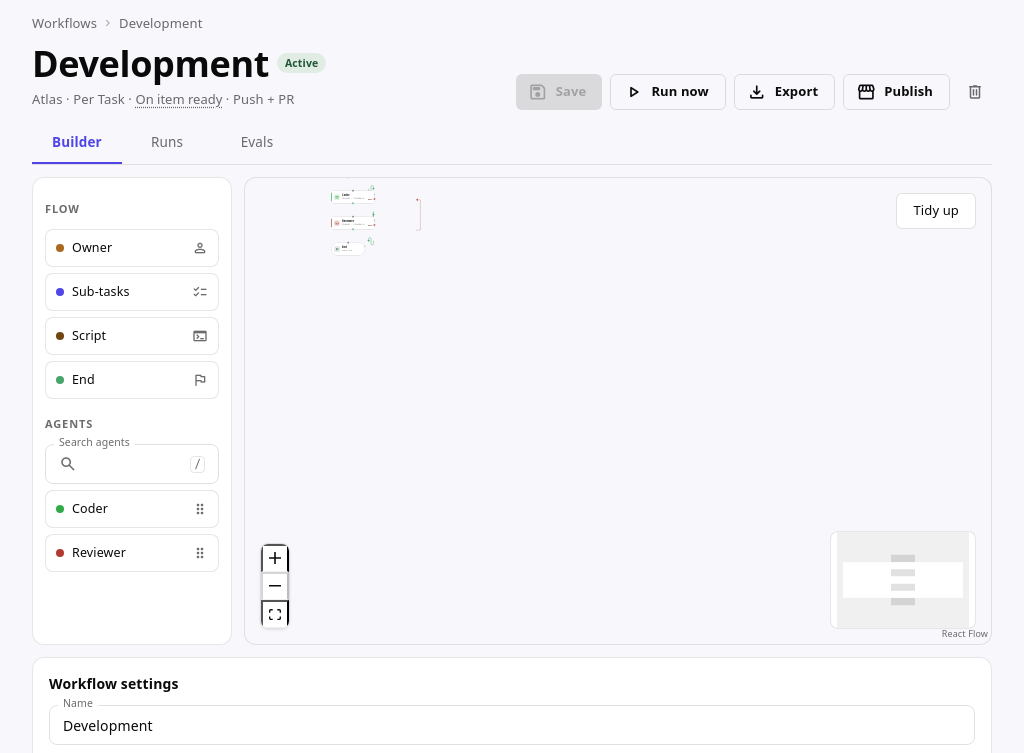
it: WorkflowBuilder › saves the whole workflow, graph included, with PATCH
expect the button "Save" is disabled: met, box [516,74,602,110]
Clear the field labelled "Name" at (512, 725), box [49,705,975,745]
(page scrolled)
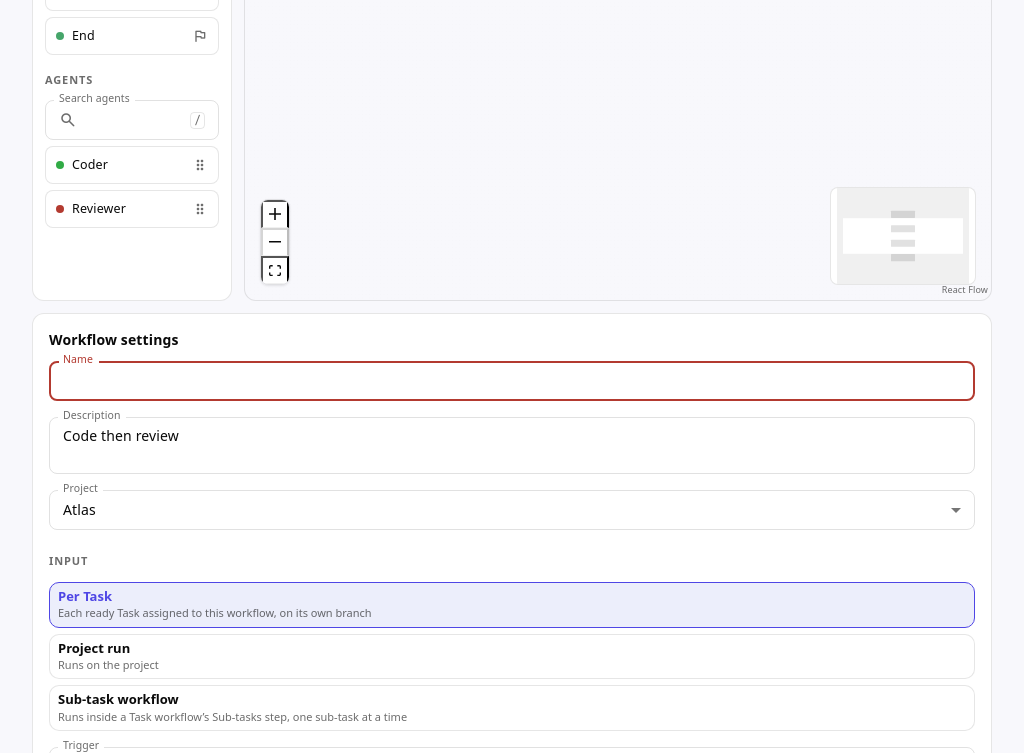
Type "Dev flow" into the field labelled "Name" at (512, 381), box [49,361,975,401]
(page scrolled)
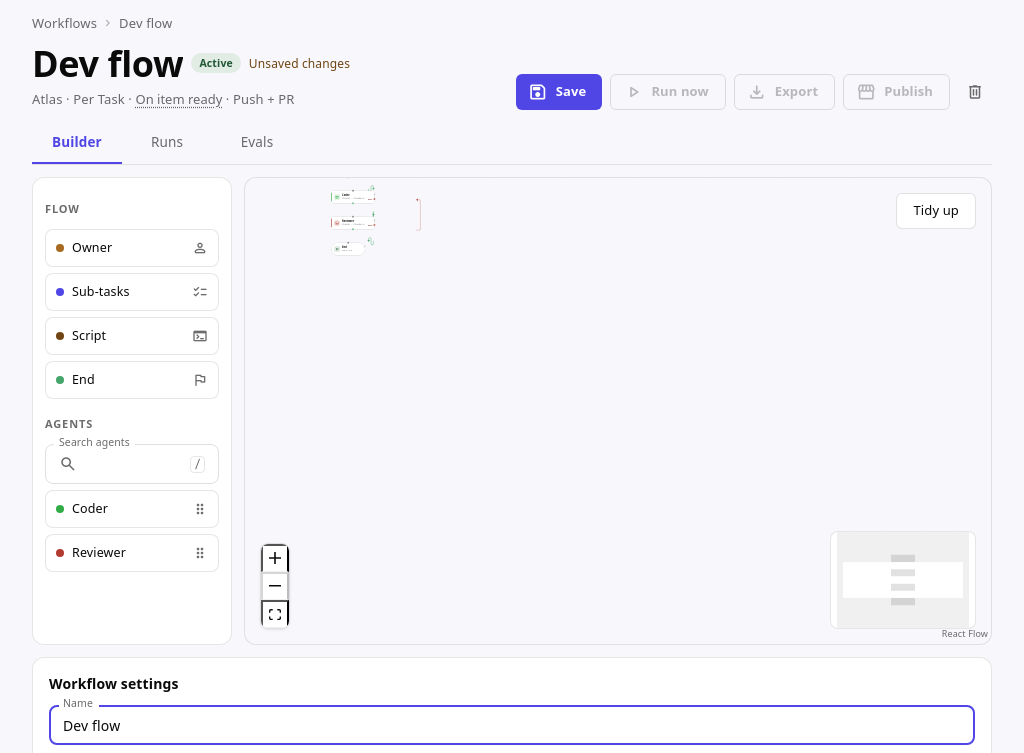
expect the text "Unsaved changes" is shown: met, box [249,54,350,73]
Click the button "Save" at (559, 92), box [516,74,602,110]
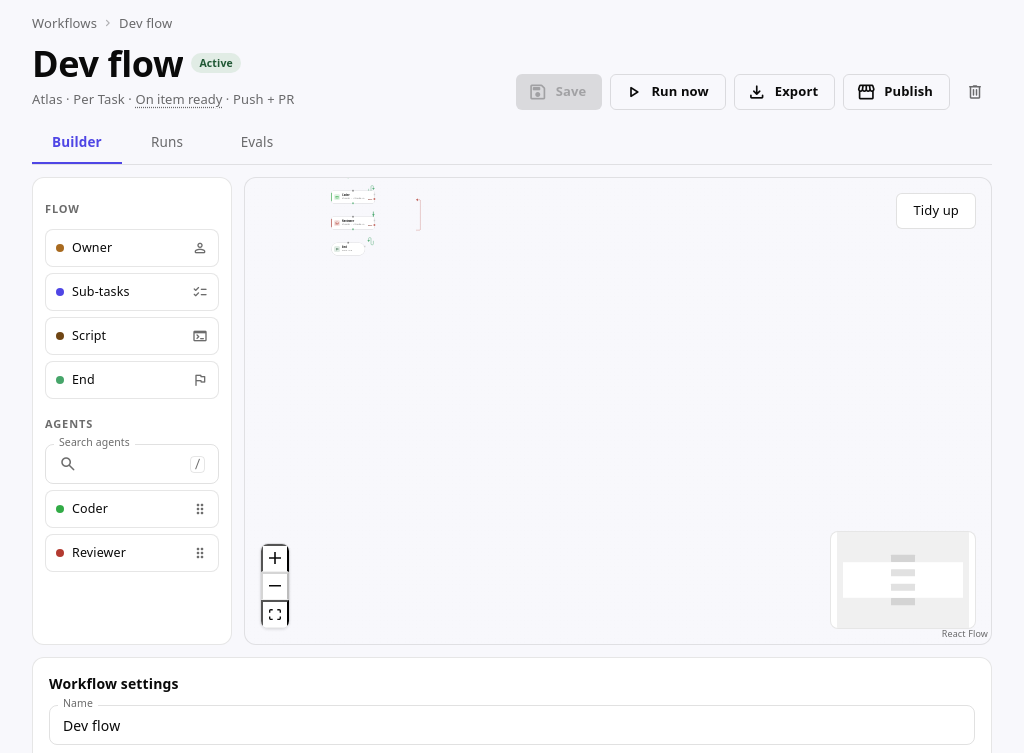
expect the text "Dev flow" is shown: met, box [119,13,172,34]
expect the text "Unsaved changes" is gone: met
